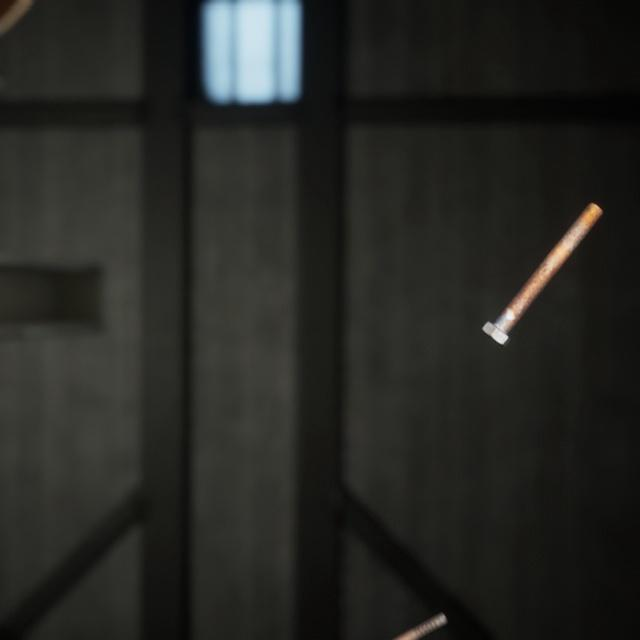bolt: (477, 181, 607, 334), (329, 585, 451, 640)
